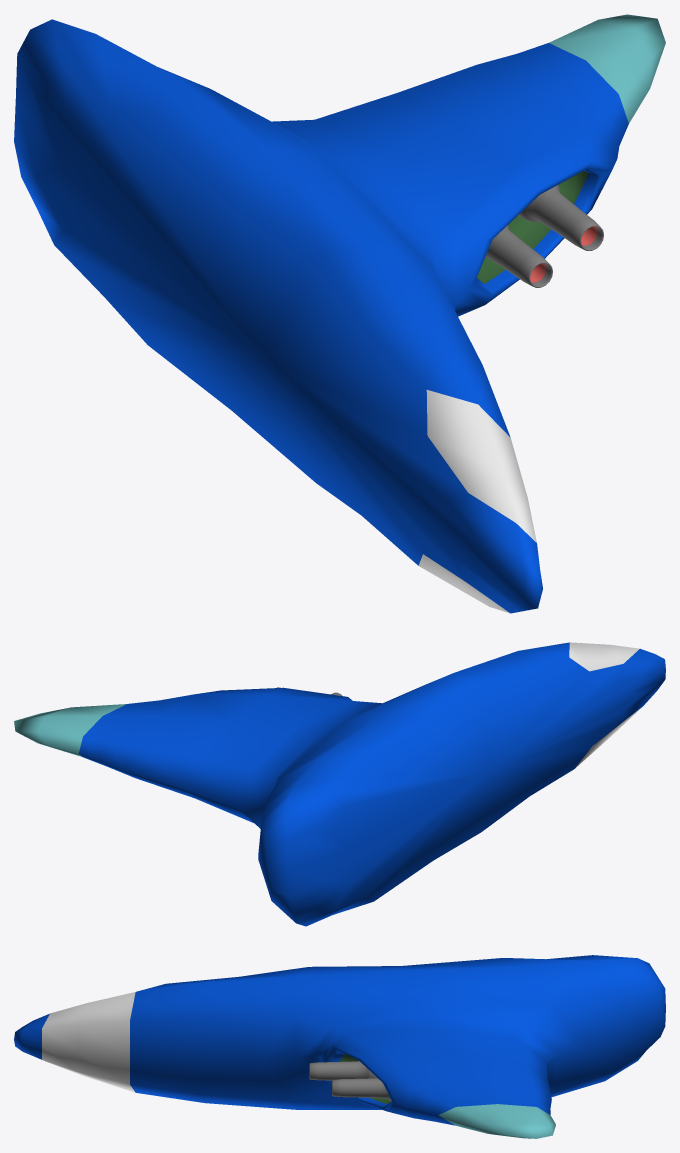
The model's file is wings_1_left.fbx.
3 renders of one model, top to bottom at view 1: azimuth 30°, elevation 25°; view 2: azimuth 150°, elevation 25°; view 3: azimuth 270°, elevation 25°, orthographic. The views are drawn at different scales.
Parts seen in each view (by area): view 1: spaceship_player.001; view 2: spaceship_player.001; view 3: spaceship_player.001.
Part boxes in pixels (<box>): spaceship_player.001: <box>14,14,665,613</box>; spaceship_player.001: <box>14,642,665,926</box>; spaceship_player.001: <box>14,955,665,1138</box>.
Size of the model in its own units: 119 by 50.88 by 200.
